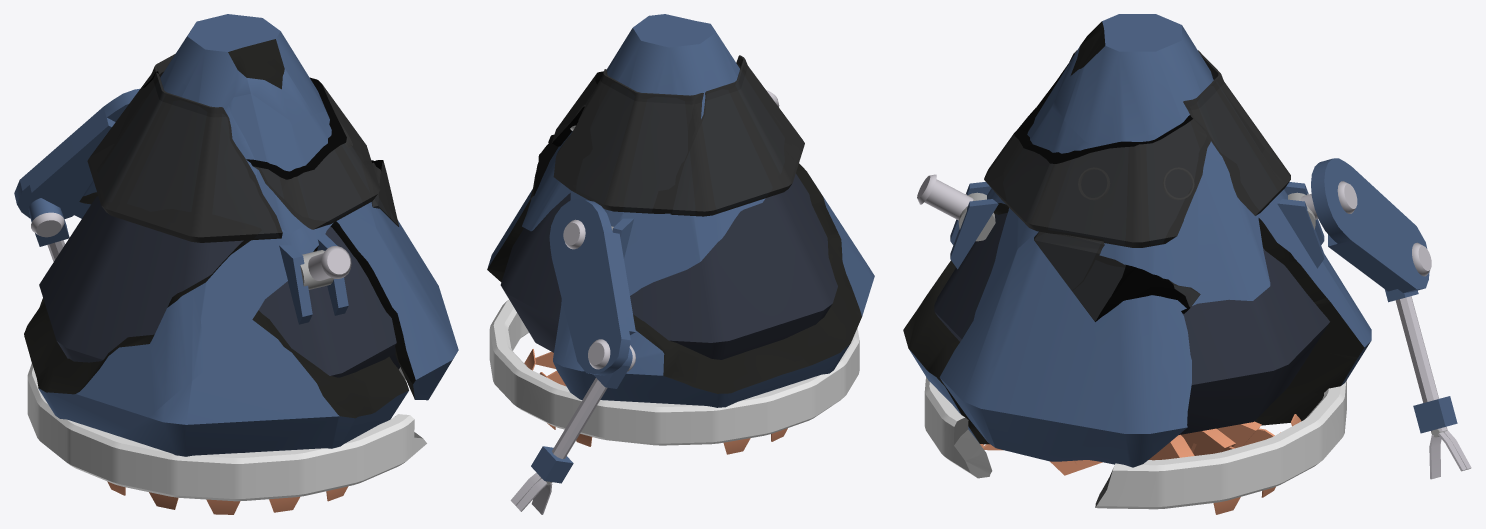
Rendered from robot_broken.fbx.
The picture shows the model from 3 angles, left to right: view 1: azimuth 30°, elevation 25°; view 2: azimuth 150°, elevation 25°; view 3: azimuth 270°, elevation 25°; orthographic projection. The views are drawn at different scales.
Parts seen in each view (by area): view 1: polySurface92; view 2: polySurface92; view 3: polySurface92.
Part boxes in pixels (box(x1,y1,x2,y2)): polySurface92: box(14, 14, 458, 514); polySurface92: box(487, 14, 874, 514); polySurface92: box(903, 14, 1471, 514).
Bounding box in the file's own units: 188 × 200 × 232.
